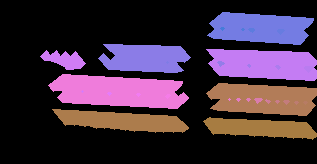parkingspot: (52, 109, 188, 132), (48, 74, 182, 96), (57, 86, 188, 108), (203, 117, 317, 139), (208, 58, 317, 80), (206, 83, 317, 102), (209, 12, 313, 32), (207, 24, 308, 44), (206, 49, 317, 67), (210, 96, 315, 115), (98, 53, 183, 72), (103, 44, 190, 62), (40, 50, 85, 69)
